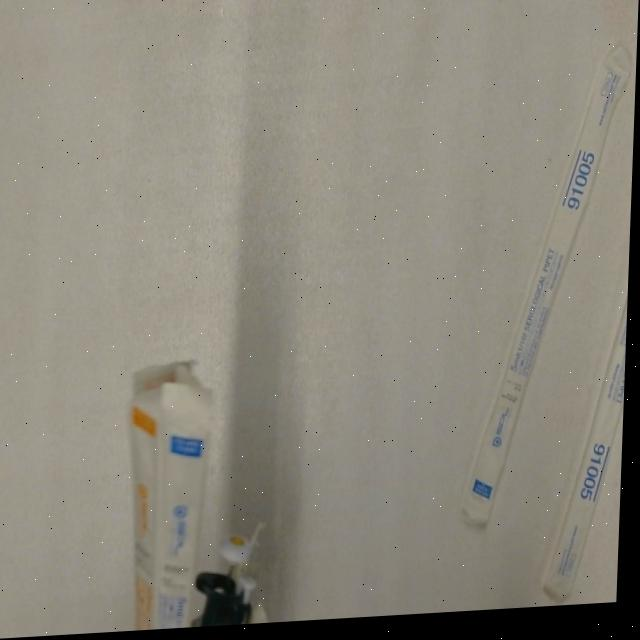Serelogical Pipet 10 mL: (126, 386, 172, 633)
Serelogical Pipet 5 mL: (459, 37, 638, 533), (545, 274, 631, 609), (157, 377, 219, 632)
Single Channel Pipettor: (199, 529, 269, 630)
